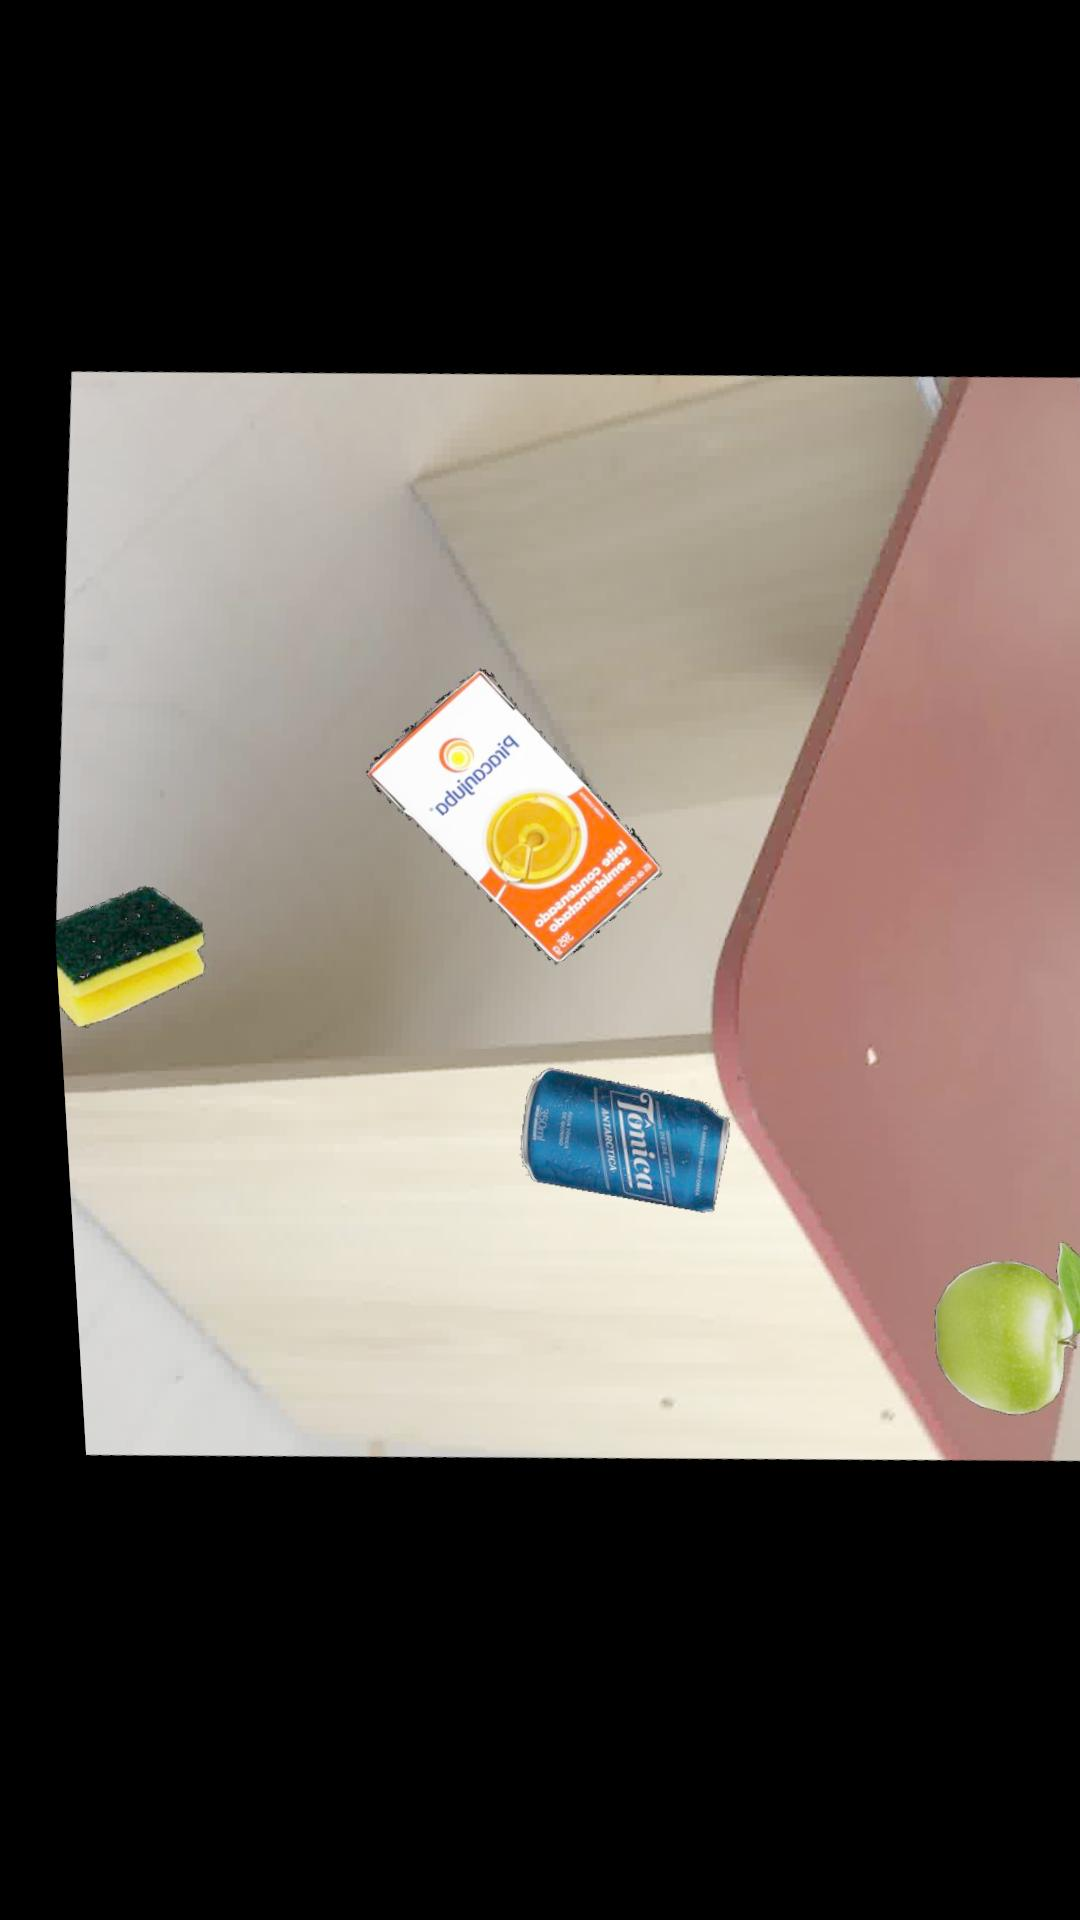green apple: (918, 1257, 1077, 1429)
sponge: (44, 886, 194, 1026)
tonic: (506, 1075, 716, 1221)
